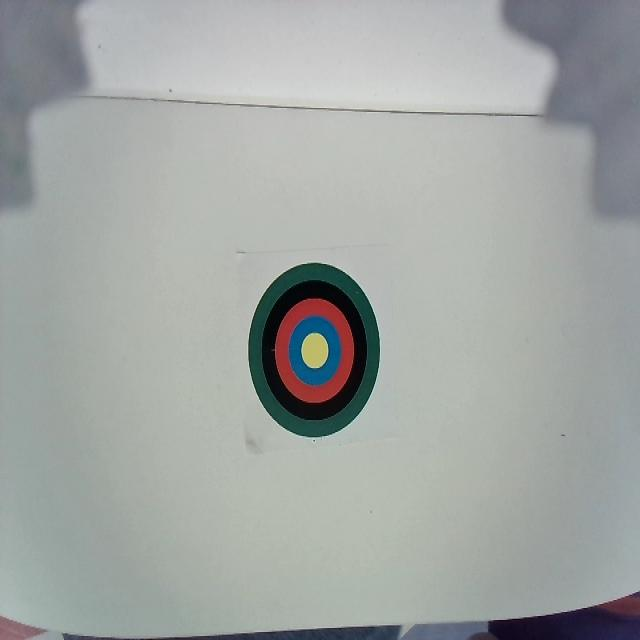cogn: (247, 260, 382, 439)
